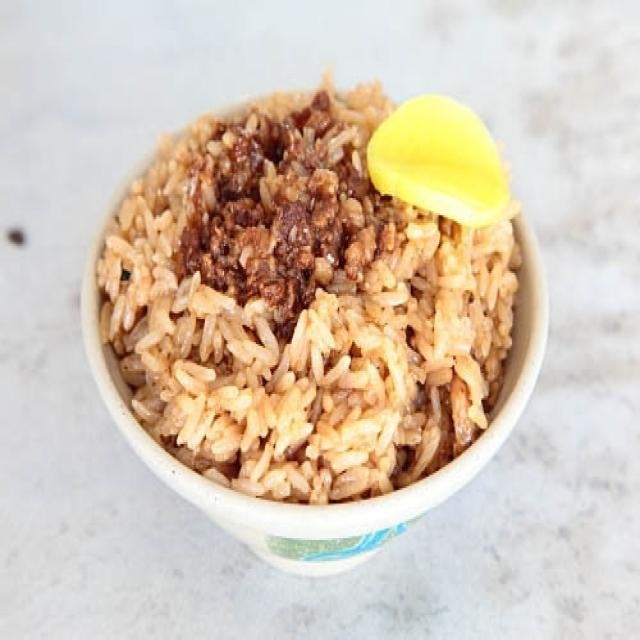米饭主食: (82, 77, 553, 578)
